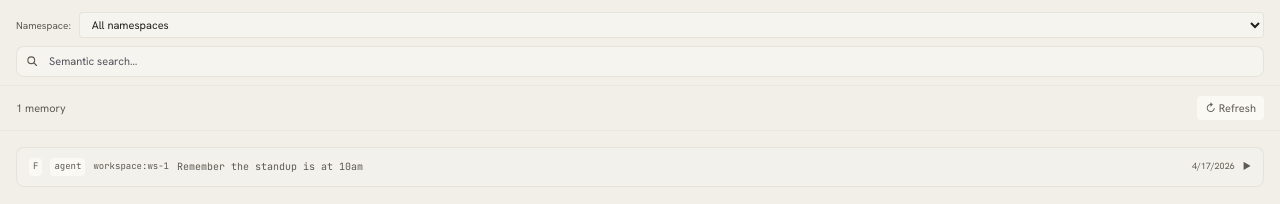
Scenario: MemoryInspectorPanel — search › clear-button resets the query
Type "foo" into the search field named "Search memories".
click(640, 61); type("foo")  # box [16,46,1264,76]
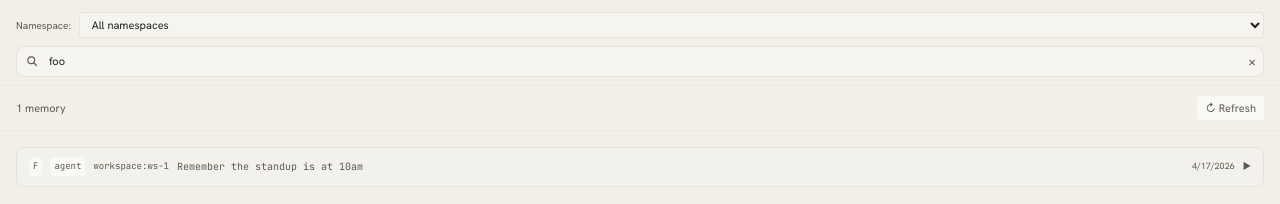
Click the button named "Clear search".
click(1252, 61)  # box [1248,54,1256,68]
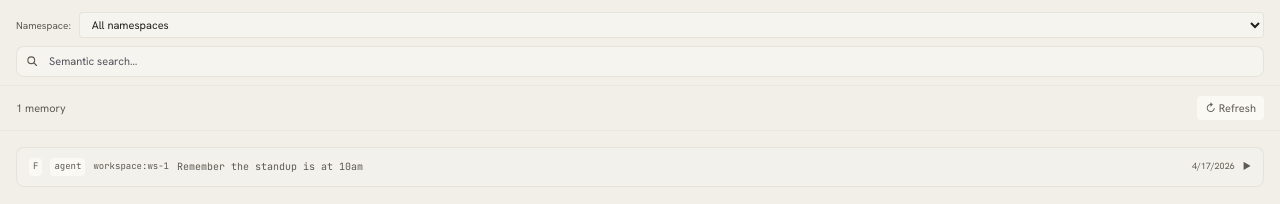
Result: the search field named "Search memories" is empty at [16,46,1264,76]
